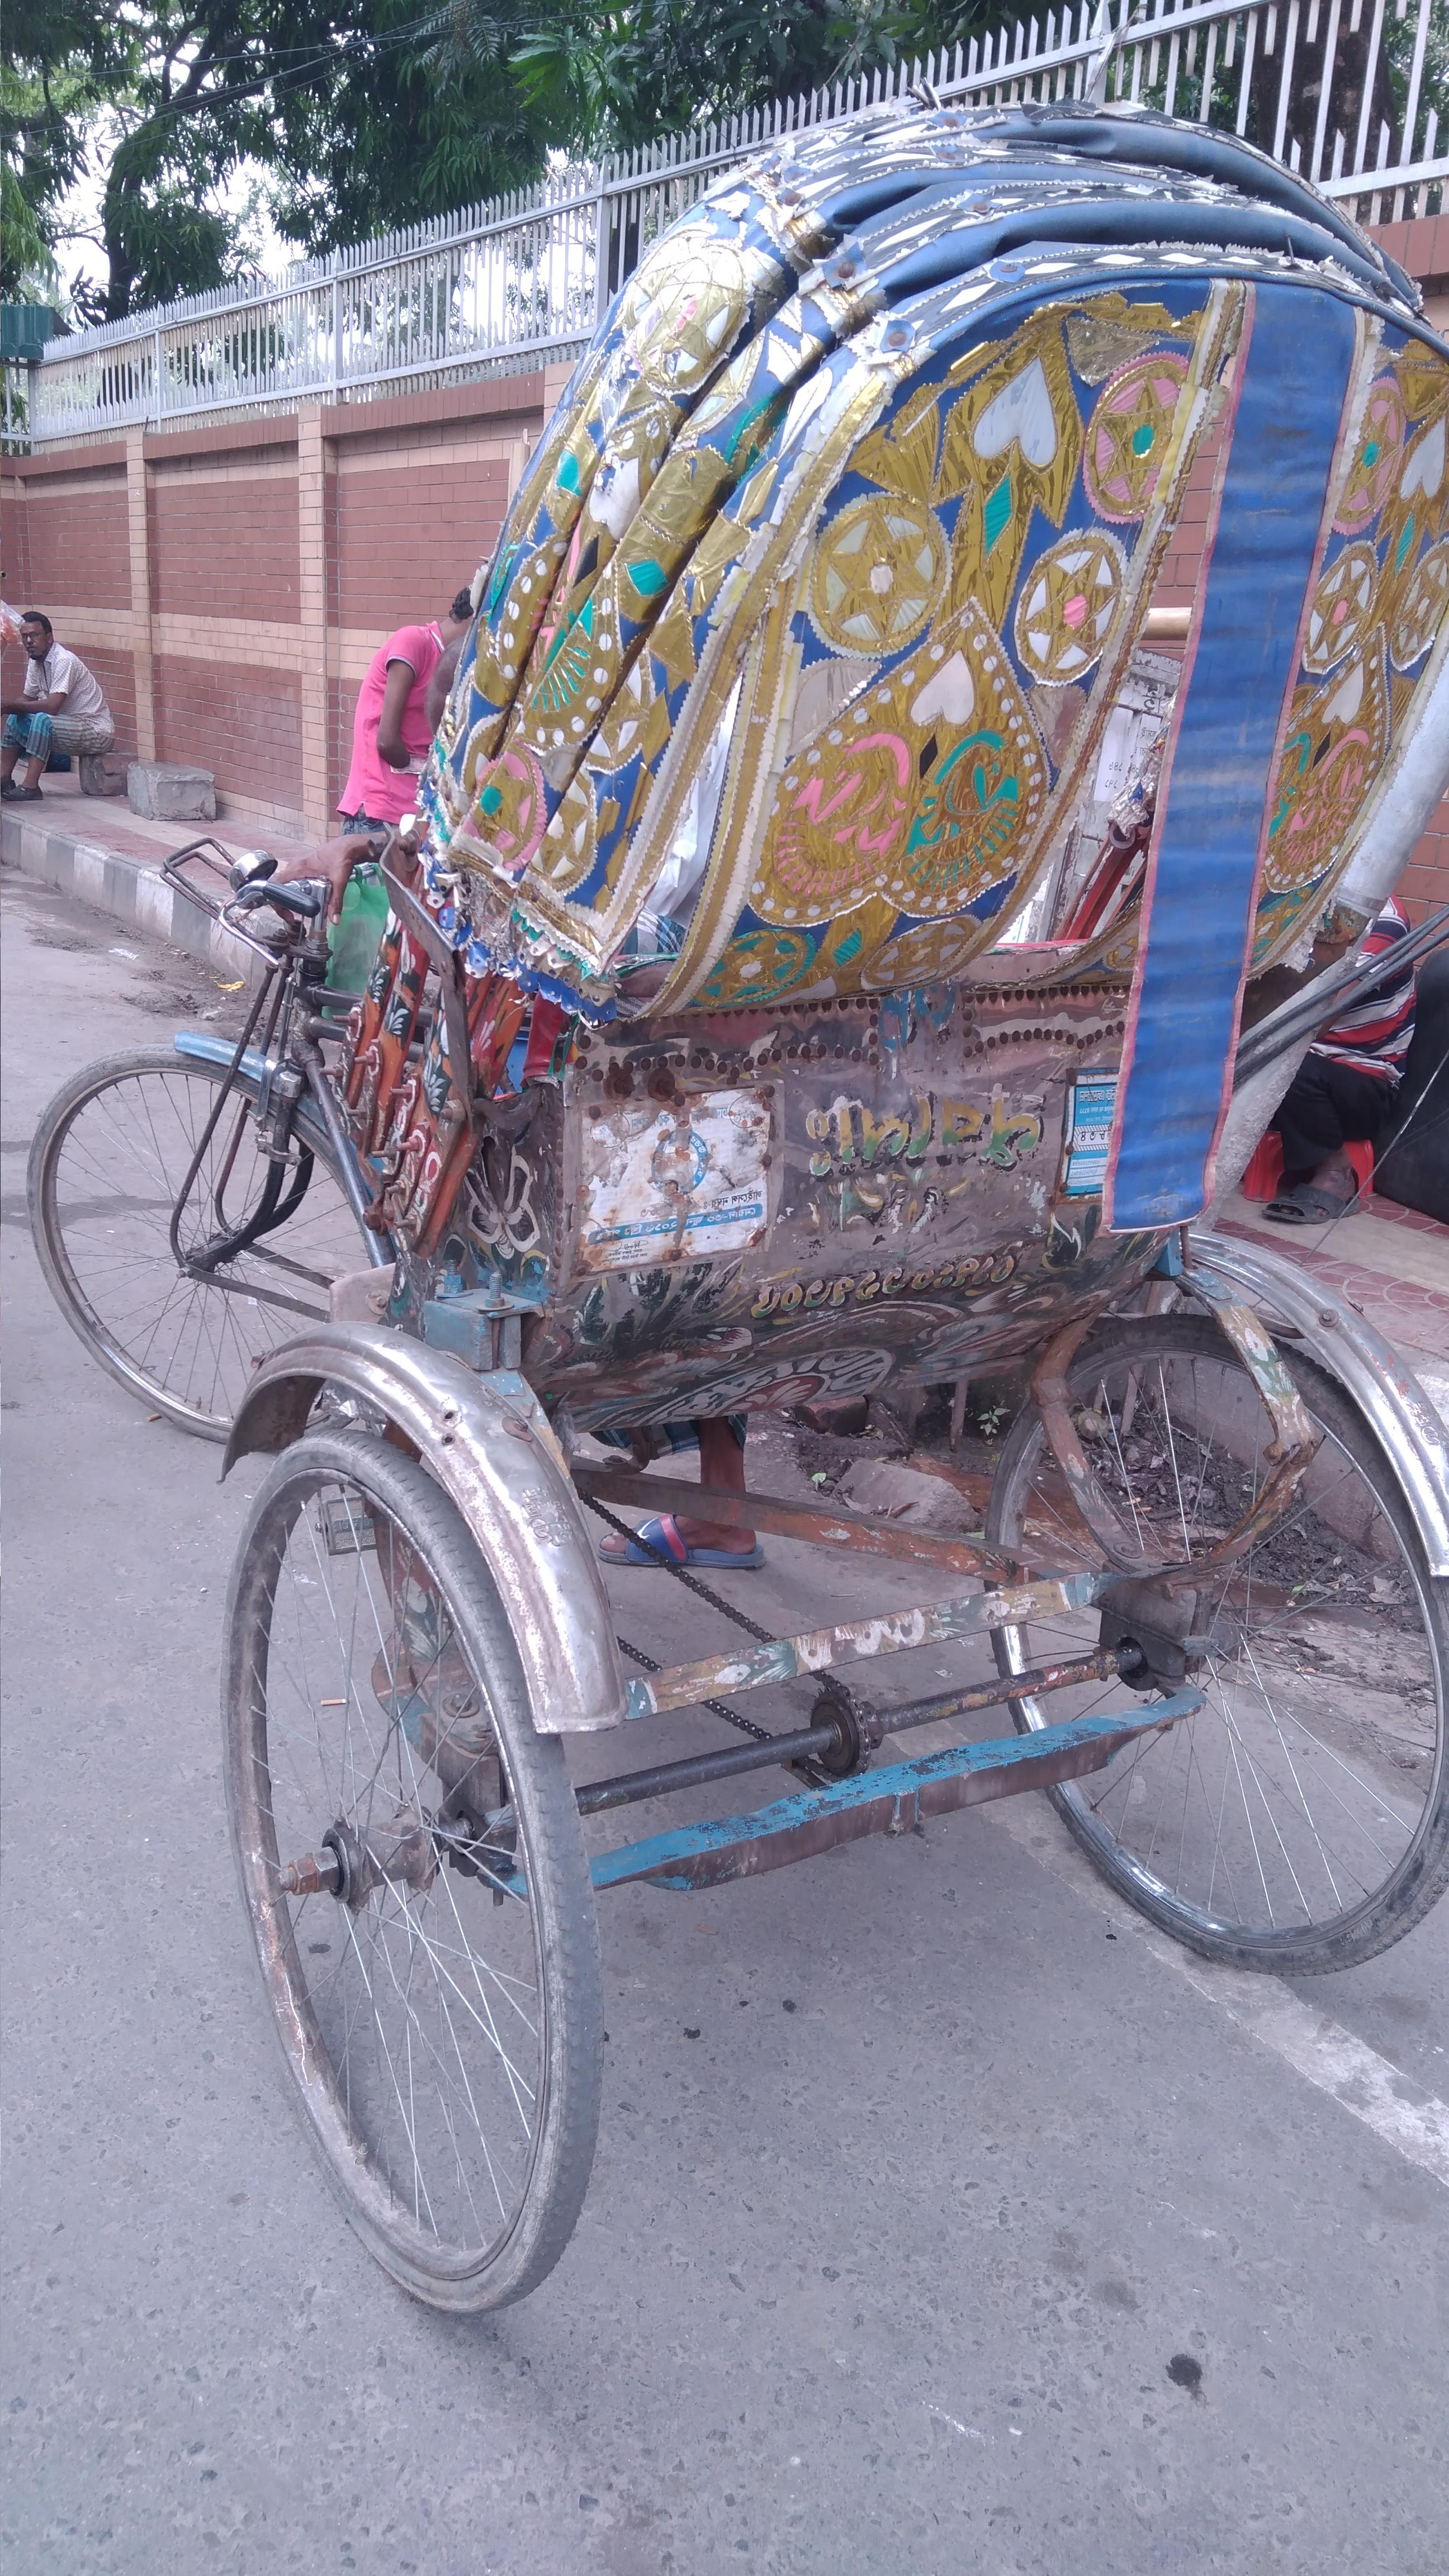Rickshaw: (55, 161, 1447, 2208)
